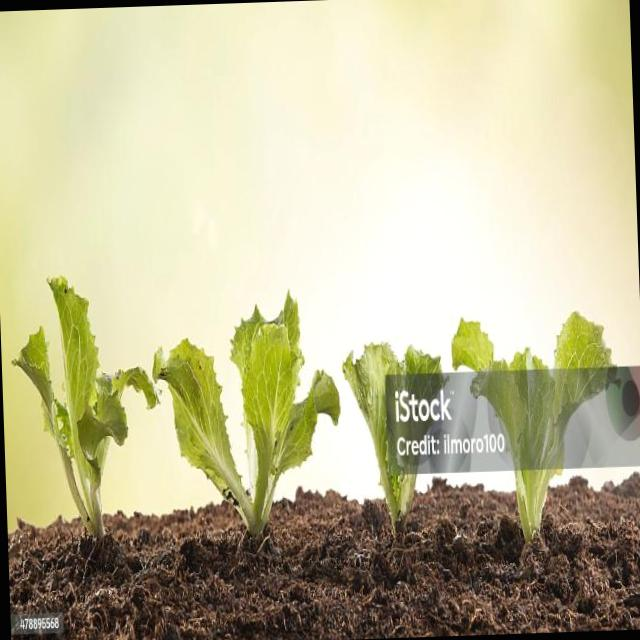Lettuce-Not-Ready-to-Harvest: (152, 290, 340, 537), (10, 275, 159, 538), (452, 311, 618, 542), (341, 343, 447, 524)
